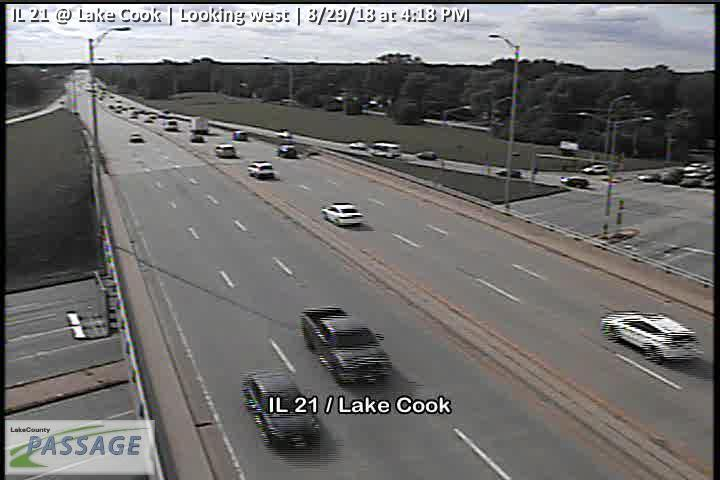SUV: (242, 370, 321, 449), (599, 310, 702, 365), (247, 160, 274, 179), (580, 163, 608, 176), (215, 143, 235, 158), (277, 143, 296, 158), (231, 130, 248, 142), (417, 150, 436, 160)
Sedan: (321, 202, 363, 227), (560, 176, 588, 188), (496, 167, 521, 178), (127, 132, 144, 143), (347, 141, 366, 149)
Truck: (299, 305, 392, 385), (370, 142, 399, 160)
